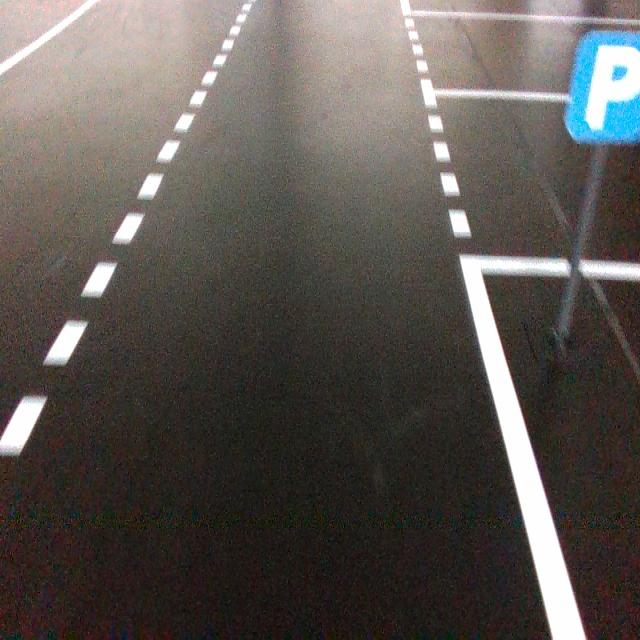parking-sign: (561, 29, 640, 145)
